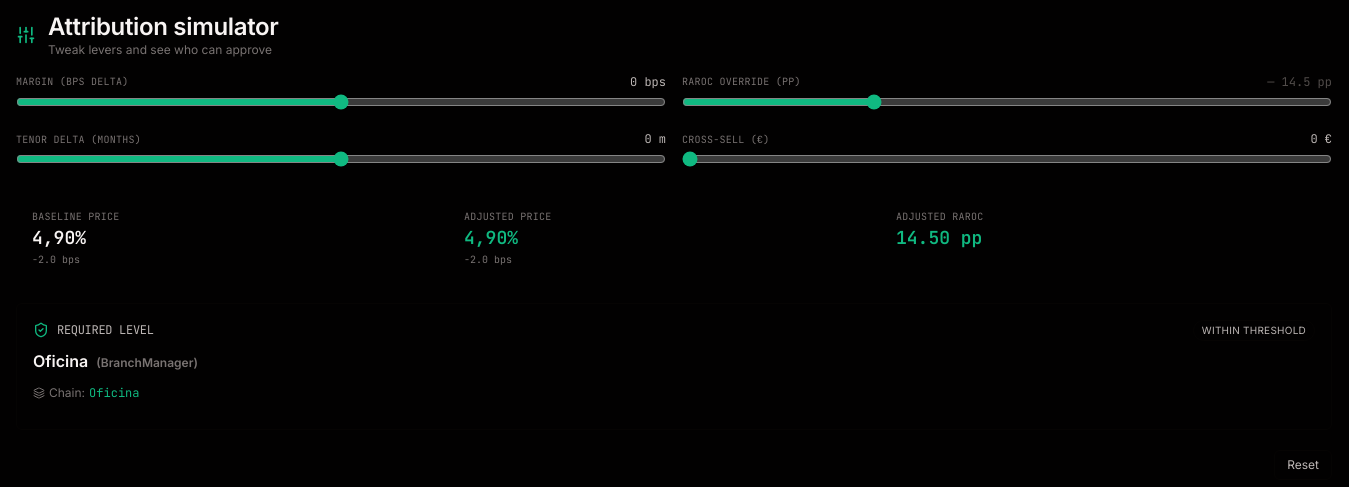
Scenario: AttributionSimulator › mover el slider de deviation actualiza el precio ajustado
Slider de deviationDelta es el primer range del documento.
Set the slider labelled "Margin (bps delta) 0 bps" to "-10" at (278, 102), box [16,94,666,110]
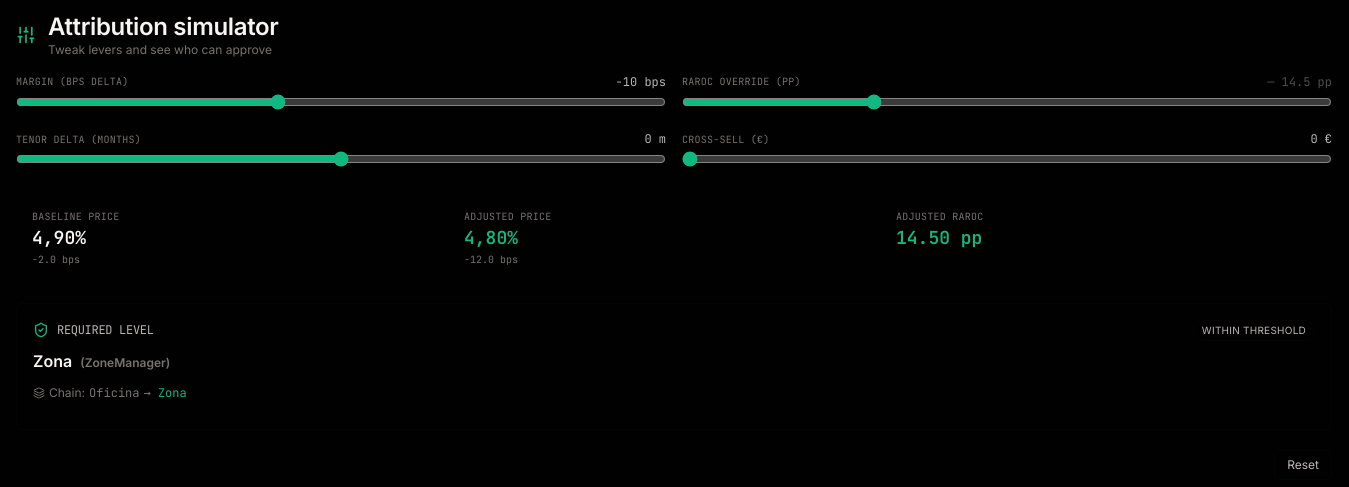
Result: the text "4,80%" is shown at [464,226,518,249]
